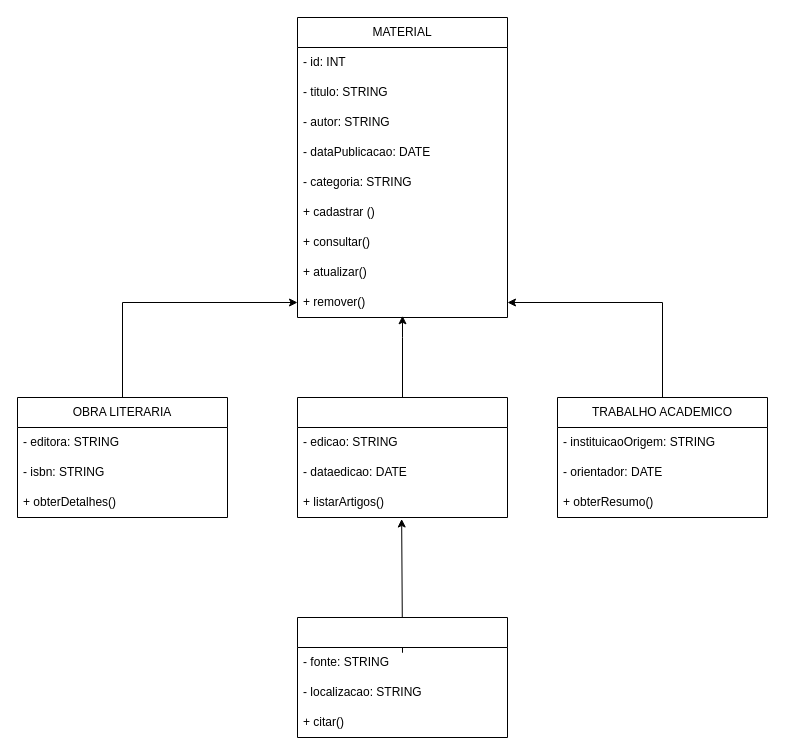
The diagram is 785 pixels wide and 755 high, and some of its shapes have lost their labels. The box of each missing label's shape, as (x1, y1, x2, y2) in pixels:
ARTIGO: (296, 616, 508, 738)
PERIODICO: (296, 396, 508, 518)
